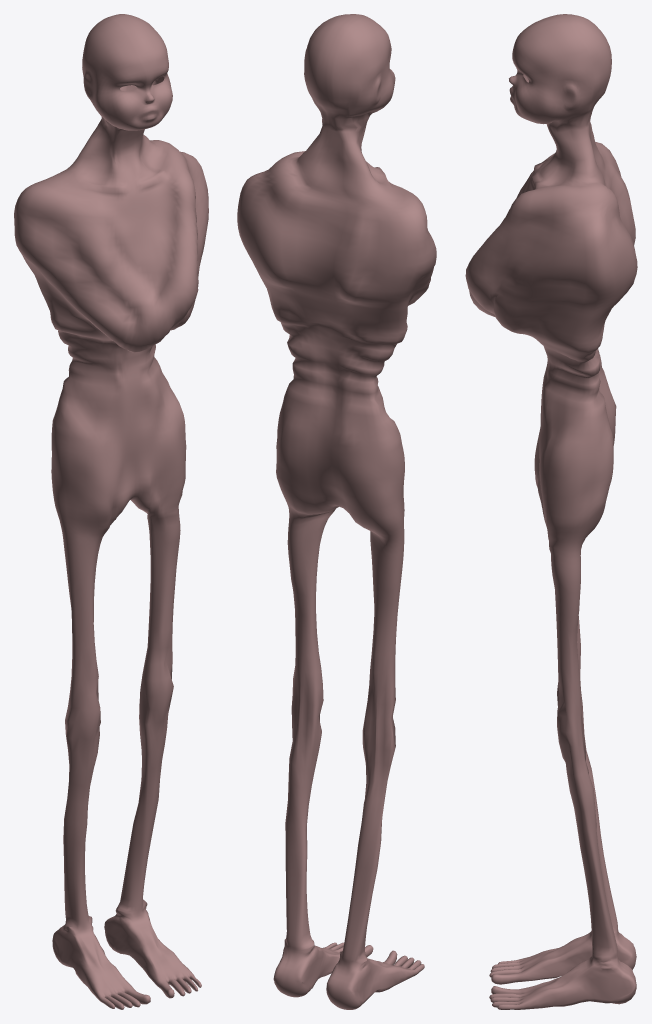
The model's file is Monster_DollHead.fbx.
The picture shows the model from 3 angles, left to right: view 1: azimuth 30°, elevation 25°; view 2: azimuth 150°, elevation 25°; view 3: azimuth 270°, elevation 25°; orthographic projection.
Parts seen in each view (by area): view 1: DollHead:Monster_DollHead; view 2: DollHead:Monster_DollHead; view 3: DollHead:Monster_DollHead.
Part boxes in pixels (box(x1,y1,x2,y2)): DollHead:Monster_DollHead: box(14, 14, 208, 1009); DollHead:Monster_DollHead: box(237, 14, 436, 1009); DollHead:Monster_DollHead: box(465, 14, 637, 1009).
Size of the model in its own units: 32.16 by 159 by 25.45.
